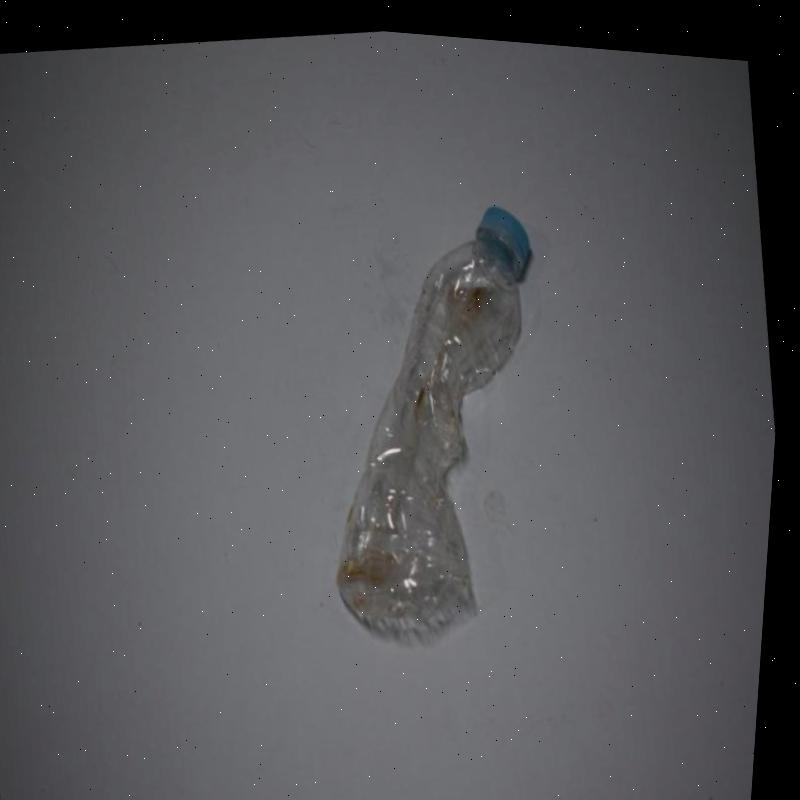botella: (290, 179, 593, 661)
